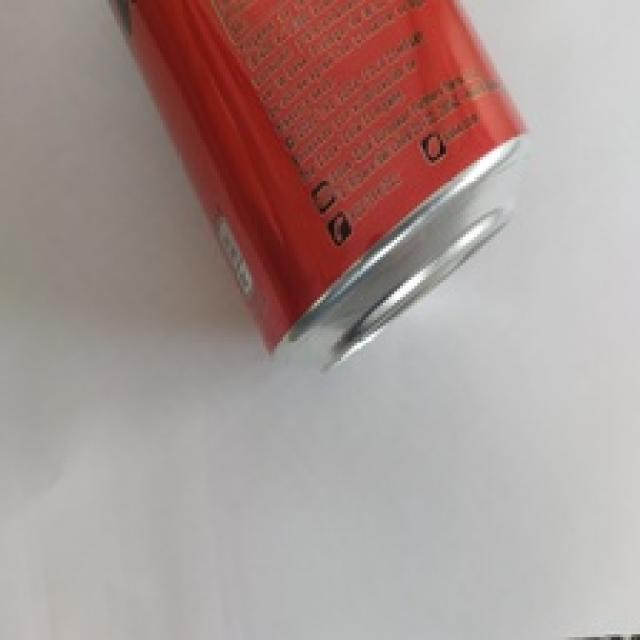recyclable: (100, 0, 528, 371)
